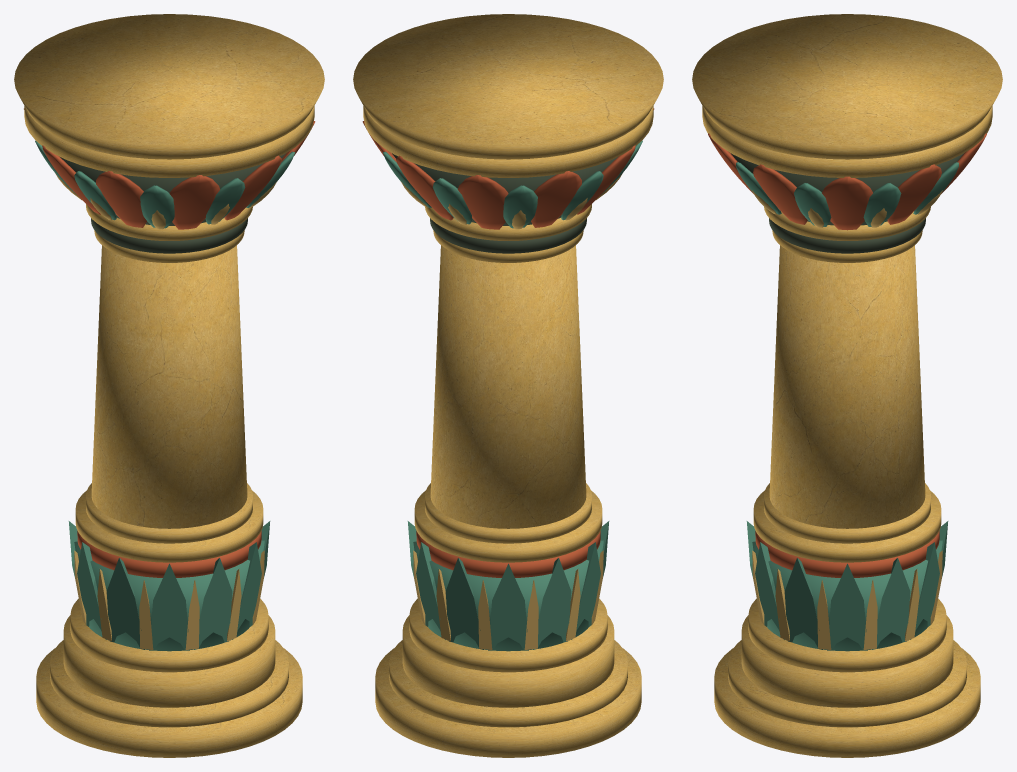
Rendered from lotus_column.glb.
3 renders of one model, left to right at view 1: azimuth 30°, elevation 25°; view 2: azimuth 150°, elevation 25°; view 3: azimuth 270°, elevation 25°, orthographic.
Visible parts, largest first — view 1: Main sandstone shaft, Capital abacus, Base lower plinth, Base drum, Base torus lower, Capital top ring, Base torus upper, Lower gold collar, Lower lotus calyx, Shaft lower rim, Lower red band, Lower green lotus petal.008 (+19 smaller); view 2: Main sandstone shaft, Capital abacus, Base lower plinth, Base drum, Base torus lower, Capital top ring, Base torus upper, Lower gold collar, Lower lotus calyx, Shaft lower rim, Lower red band, Lower green lotus petal.004 (+19 smaller); view 3: Main sandstone shaft, Capital abacus, Base lower plinth, Base drum, Base torus lower, Capital top ring, Base torus upper, Lower gold collar, Lower lotus calyx, Shaft lower rim, Lower red band, Lower green lotus petal (+19 smaller).
Part boxes in pixels (<box>): Main sandstone shaft: <box>91,245,247,528</box>; Capital abacus: <box>14,14,324,159</box>; Base lower plinth: <box>36,648,302,757</box>; Base drum: <box>63,615,275,707</box>; Base torus lower: <box>50,640,288,727</box>; Capital top ring: <box>24,106,314,177</box>; Base torus upper: <box>70,598,268,672</box>; Lower gold collar: <box>75,490,263,562</box>; Lower lotus calyx: <box>74,540,264,651</box>; Shaft lower rim: <box>86,483,252,543</box>; Lower red band: <box>77,531,261,577</box>; Lower green lotus petal.008: <box>149,563,189,650</box>; Main sandstone shaft: <box>430,245,586,528</box>; Capital abacus: <box>353,14,663,159</box>; Base lower plinth: <box>375,648,641,757</box>; Base drum: <box>402,615,614,707</box>; Base torus lower: <box>389,640,627,727</box>; Capital top ring: <box>363,106,653,177</box>; Base torus upper: <box>409,598,607,672</box>; Lower gold collar: <box>414,490,602,562</box>; Lower lotus calyx: <box>413,540,603,651</box>; Shaft lower rim: <box>425,483,591,543</box>; Lower red band: <box>416,531,600,577</box>; Lower green lotus petal.004: <box>488,563,528,650</box>; Main sandstone shaft: <box>769,245,925,528</box>; Capital abacus: <box>692,14,1002,159</box>; Base lower plinth: <box>714,648,980,757</box>; Base drum: <box>741,615,953,707</box>; Base torus lower: <box>728,640,966,727</box>; Capital top ring: <box>702,106,992,177</box>; Base torus upper: <box>748,598,946,672</box>; Lower gold collar: <box>753,490,941,562</box>; Lower lotus calyx: <box>752,540,942,651</box>; Shaft lower rim: <box>764,483,930,543</box>; Lower red band: <box>755,531,939,577</box>; Lower green lotus petal: <box>827,563,867,650</box>.
Bounding box in the file's own units: 1.82 × 4.02 × 1.82.
Materials: 4 (1 with a texture image).
